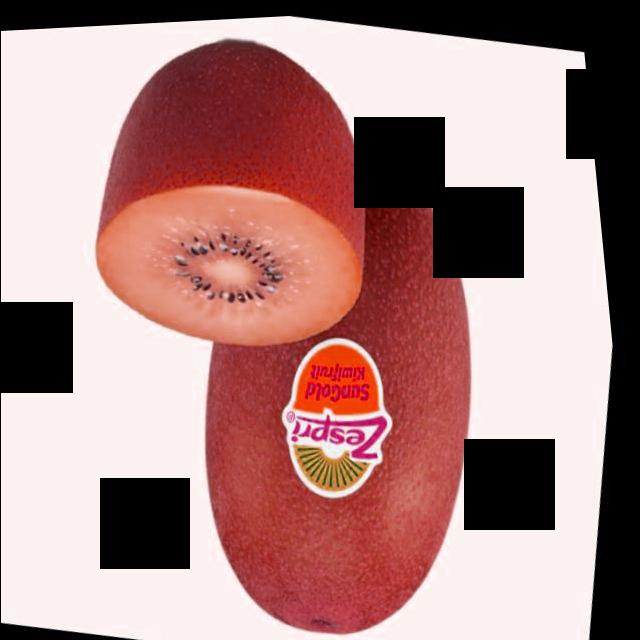kiwi: (156, 138, 537, 640)
